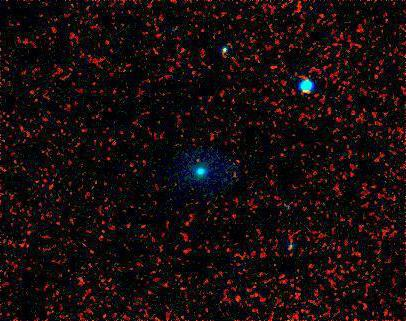star: (211, 35, 241, 65)
